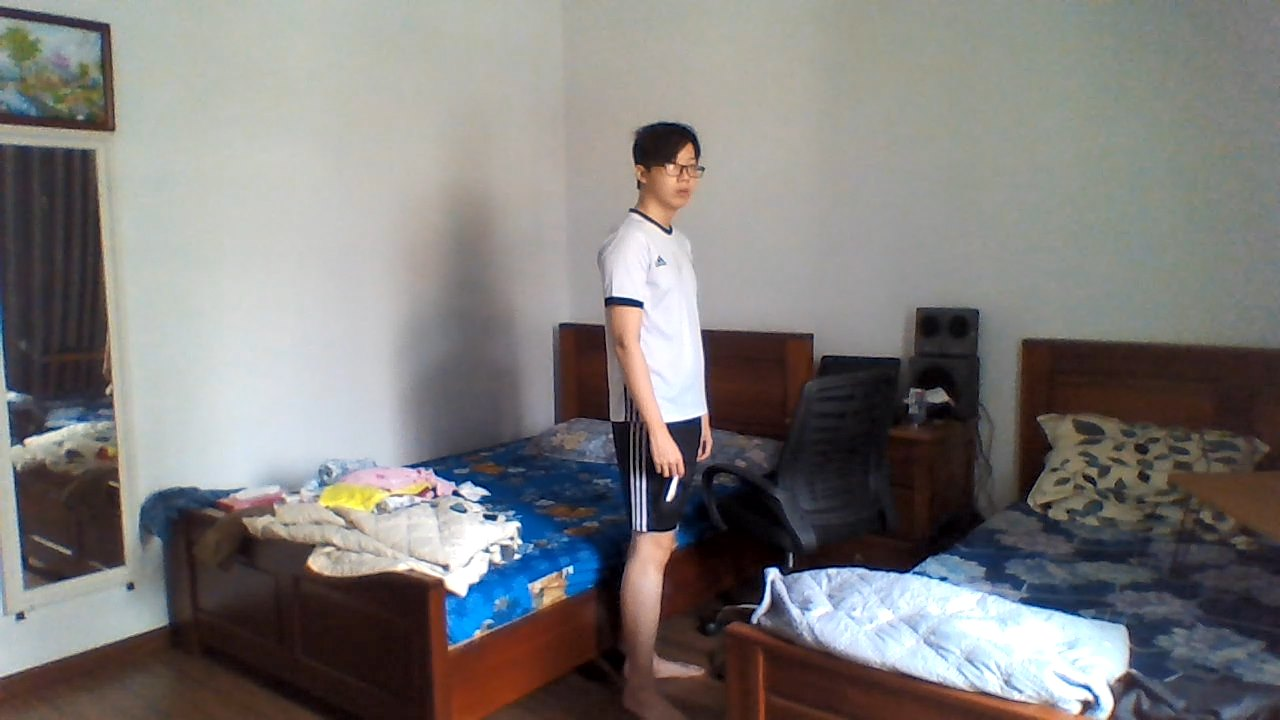cigarette: (667, 473, 681, 500)
person: (572, 100, 732, 720)
